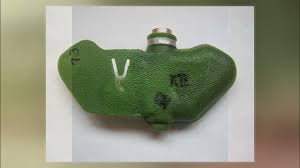butterfly: (56, 22, 243, 138)
